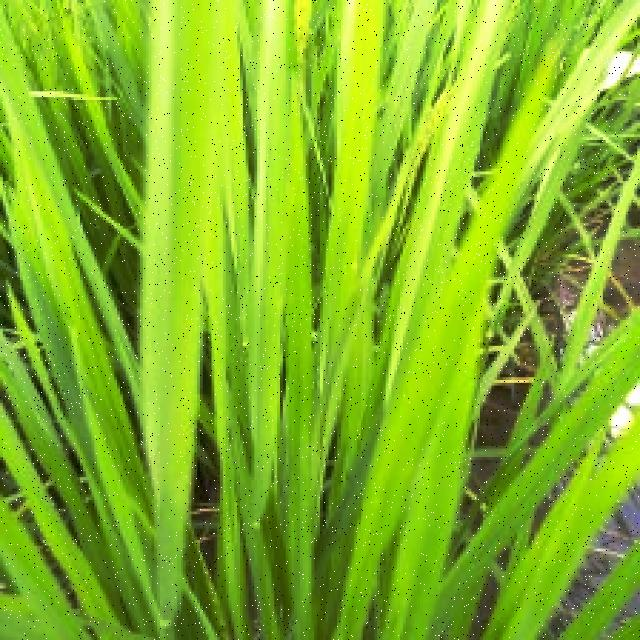health: (0, 0, 624, 631)
